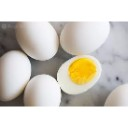begg: (57, 54, 102, 95), (16, 22, 55, 59)
